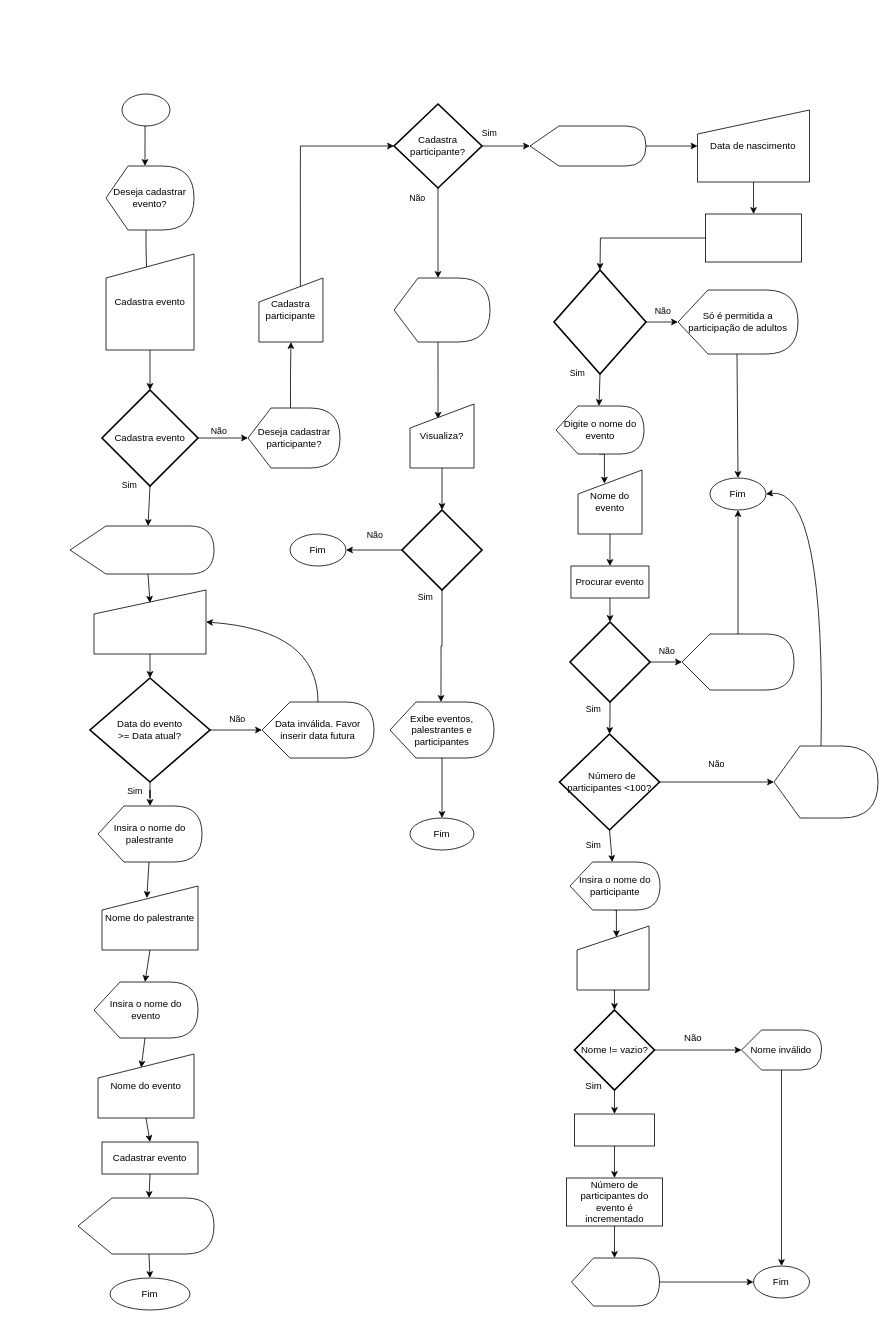
Image size: 892x1324. Some labels were removed from this diagram. Here are the shapes that lost their labels. From the top down, the box of each, then its label:
(121, 93, 170, 126): Início
(529, 125, 646, 166): Digite a data de nascimento
(705, 213, 802, 262): Idade = Ano(Data atual - Data nascimento)
(393, 277, 490, 342): Deseja visualizar eventos?
(553, 269, 646, 374): Idade >= 18?
(69, 525, 214, 574): Insira a data do evento
(401, 509, 482, 590): Visualiza
(93, 589, 206, 654): Data do evento
(569, 621, 650, 702): evento foi localizado?
(681, 633, 794, 690): Evento não localizado
(773, 745, 878, 818): Não há mais vagas para este evento
(576, 925, 649, 990): Nome
(574, 1113, 654, 1146): Cadastrar participante
(77, 1197, 214, 1254): Evento cadastrado com sucesso!
(571, 1257, 660, 1306): Participante cadastrado com sucesso
